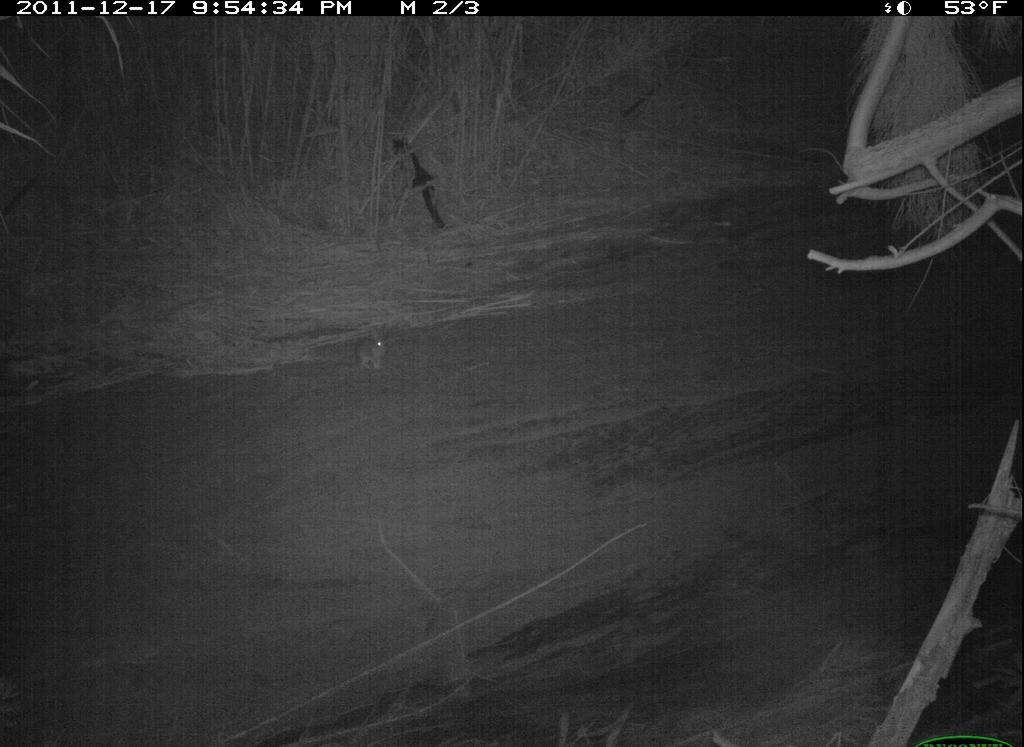rabbit: (349, 329, 402, 373)
